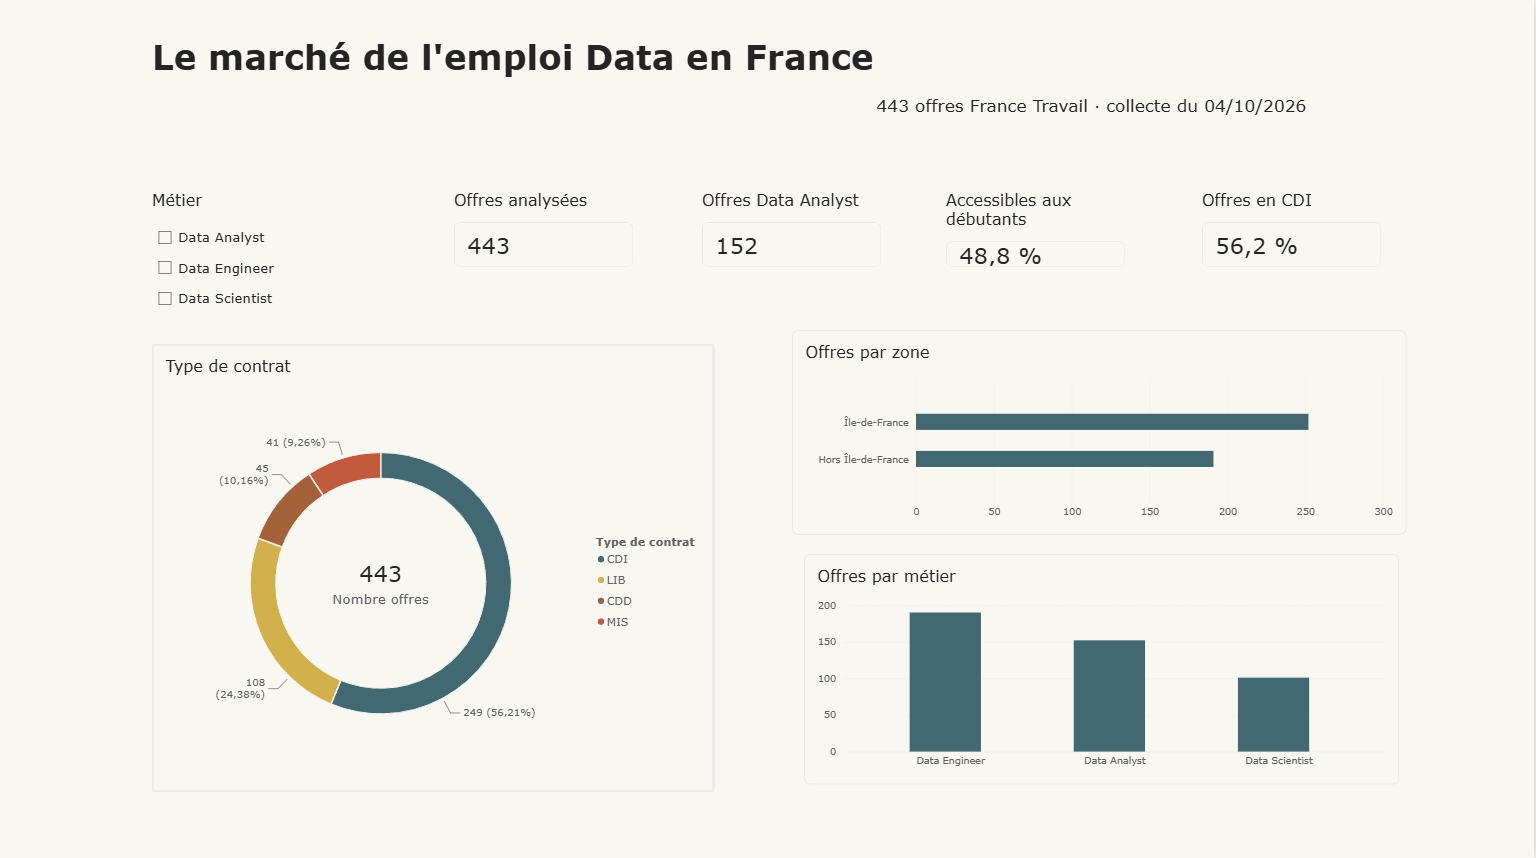

Layout of this report page (visuals, bound fields, positions):
{"tool":"powerbi","page":{"name":"Vue d'ensemble","canvas":[1920,1080],"ordinal":0},"visuals":[{"type":"slicer","title":"Métier","fields":{"Values":["offres_clean.metier"]},"box":[192,240,192,192],"z":0},{"type":"cardVisual","title":"Offres analysées","fields":{"Data":["_Table_Mesure.Nb offres"]},"box":[570,239,224,96],"z":1000},{"type":"cardVisual","title":"Offres Data Analyst","fields":{"Data":["_Table_Mesure.Nb offres"]},"box":[880,240,224,96],"z":2000},{"type":"cardVisual","title":"Accessibles aux débutants","fields":{"Data":["_Table_Mesure.% débutants"]},"box":[1184,240,224,96],"z":3000},{"type":"cardVisual","title":"Offres en CDI","fields":{"Data":["_Table_Mesure.% CDI"]},"box":[1506,239,224,96],"z":4000},{"type":"clusteredColumnChart","title":"Offres par métier","fields":{"Category":["offres_clean.metier"],"Y":["_Table_Mesure.Nb offres"]},"box":[1008,696,744,288],"z":5000},{"type":"clusteredBarChart","title":"Offres par zone","fields":{"Category":["offres_clean.zone_q3"],"Y":["_Table_Mesure.Nb offres"]},"box":[992,416,768,256],"z":6000},{"type":"donutChart","title":"Type de contrat","fields":{"Category":["offres_clean.type_contrat"],"Y":["_Table_Mesure.Nb offres"]},"box":[192,432,704,560],"z":7000},{"type":"textbox","box":[16,48,1232,80],"z":8000},{"type":"textbox","box":[192,48,1560,144],"z":9000}]}

Visuals, with their boxes in screenshot pixels (x1, y1, x2, y2), scaled from the page's 1920x1080 canvas onto the 1536x858 screenshot:
"Métier" slicer: x1=154 y1=191 x2=307 y2=343
"Offres analysées" cardVisual: x1=456 y1=190 x2=635 y2=266
"Offres Data Analyst" cardVisual: x1=704 y1=191 x2=883 y2=267
"Accessibles aux débutants" cardVisual: x1=947 y1=191 x2=1126 y2=267
"Offres en CDI" cardVisual: x1=1205 y1=190 x2=1384 y2=266
"Offres par métier" clusteredColumnChart: x1=806 y1=553 x2=1402 y2=782
"Offres par zone" clusteredBarChart: x1=794 y1=330 x2=1408 y2=534
"Type de contrat" donutChart: x1=154 y1=343 x2=717 y2=788
textbox: x1=13 y1=38 x2=998 y2=102
textbox: x1=154 y1=38 x2=1402 y2=153
